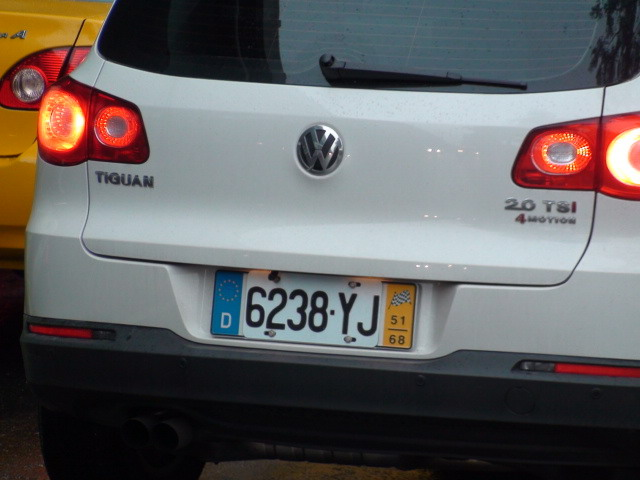plate: (243, 267, 385, 352)
